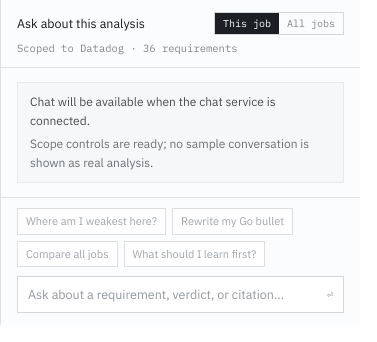
Test case: workspace supporting surfaces › changes chat scope while leaving the unfinished composer disabled
Click the button "All jobs": (311,24) left=279, top=13, right=343, bottom=34
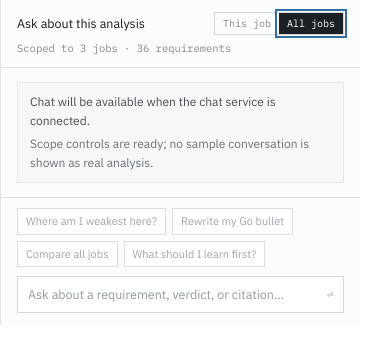
Expected: the field is disabled, left=28, top=285, right=319, bottom=304
Now the text "Scoped to 3 jobs · 36 requirements" is shown, box left=17, top=41, right=231, bottom=55
